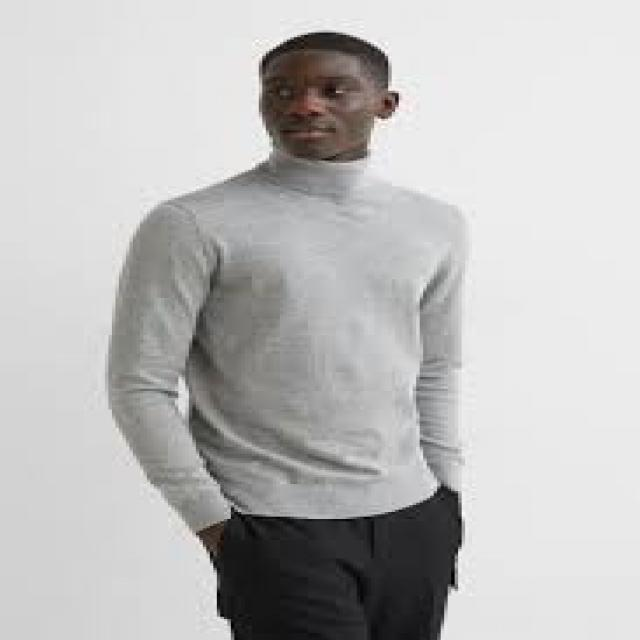plain: (100, 152, 486, 513)
